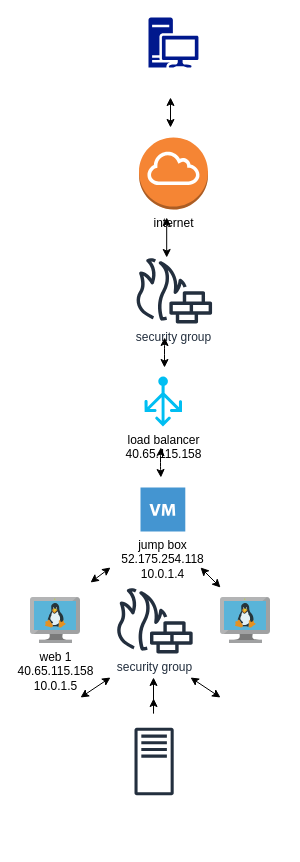
Some shapes in this 300 by 862 pixel diagram are drawn without their labels. The shapes that lost their labels are listed below. From the top down, each one's box as (x1, y1, x2, y2) in pixels, then its label:
(148, 17, 198, 67): work station public ip
(220, 597, 270, 643): web 2 40.65.115.158 10.0.1.6
(134, 727, 173, 795): elk 20.110.99.46 10.1.0.4
